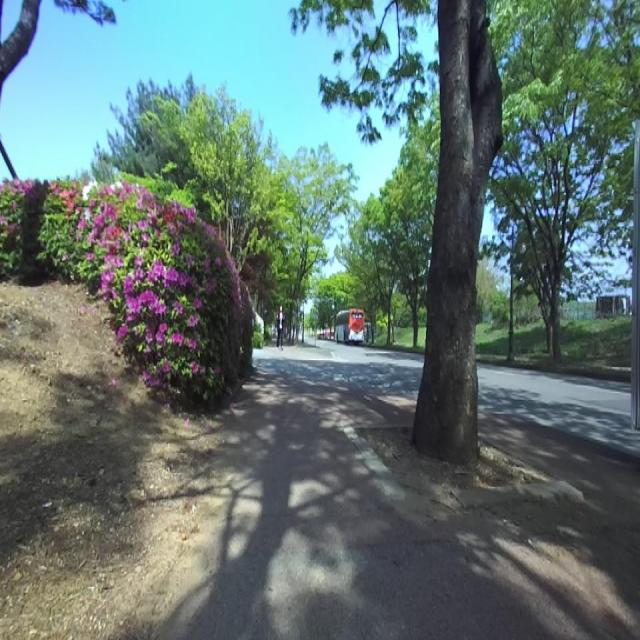sidewalk: (164, 372, 640, 640)
